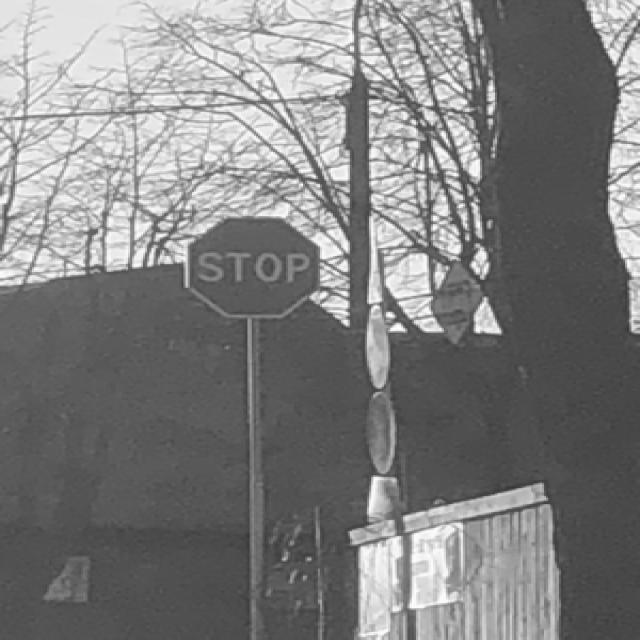Stop-signs: (187, 216, 322, 319)
